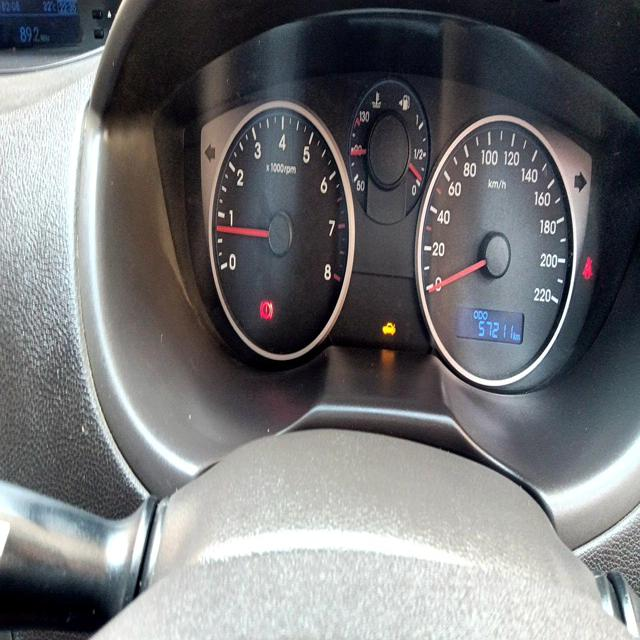odometer: (476, 317, 515, 343)
